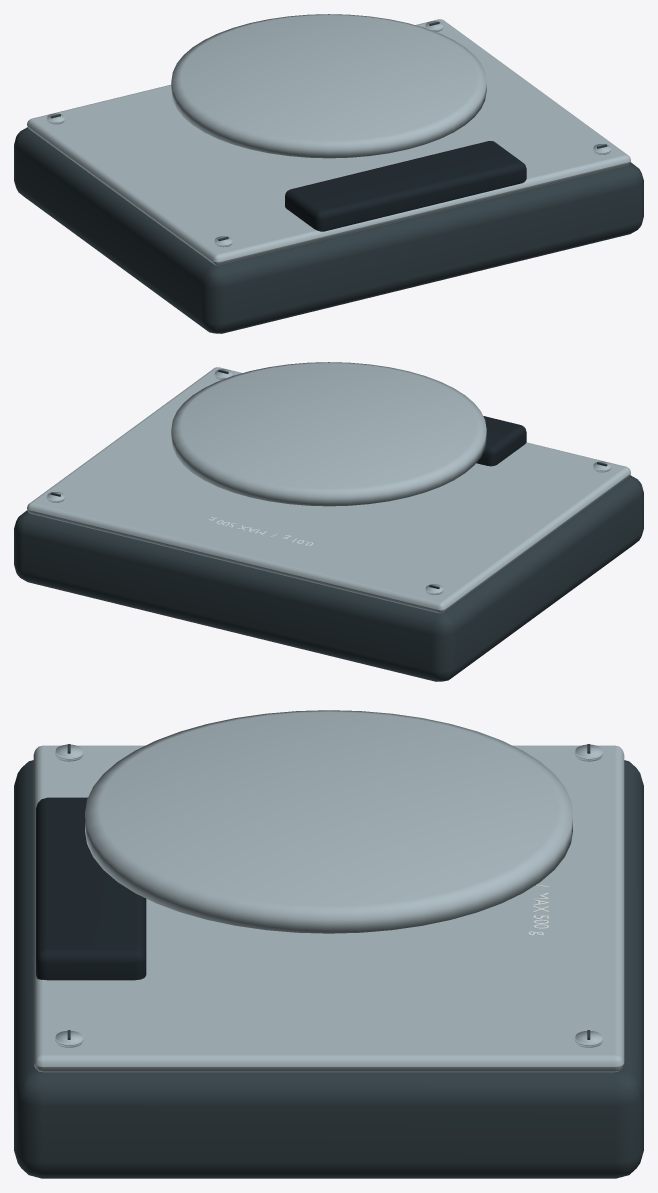
Rendered from balance.glb.
The picture shows the model from 3 angles, top to bottom: view 1: azimuth 30°, elevation 25°; view 2: azimuth 150°, elevation 25°; view 3: azimuth 270°, elevation 25°; orthographic projection. The views are drawn at different scales.
Visible parts, largest first — view 1: Machined plinth, Satin upper panel, Weighing pan, Display surround; view 2: Satin upper panel, Machined plinth, Weighing pan, Display surround; view 3: Satin upper panel, Weighing pan, Machined plinth, Display surround.
Part boxes in pixels (x1,y1,x2,y2): Machined plinth: (14,127,643,333); Satin upper panel: (27,19,630,265); Weighing pan: (171,14,486,158); Display surround: (285,141,526,231); Satin upper panel: (27,367,630,613); Machined plinth: (14,475,643,681); Weighing pan: (171,362,486,506); Display surround: (476,416,526,466); Satin upper panel: (33,745,624,1072); Weighing pan: (85,710,572,933); Machined plinth: (14,760,643,1178); Display surround: (36,797,146,980).
Size of the model in its own units: 0.5 by 0.151 by 0.4.
